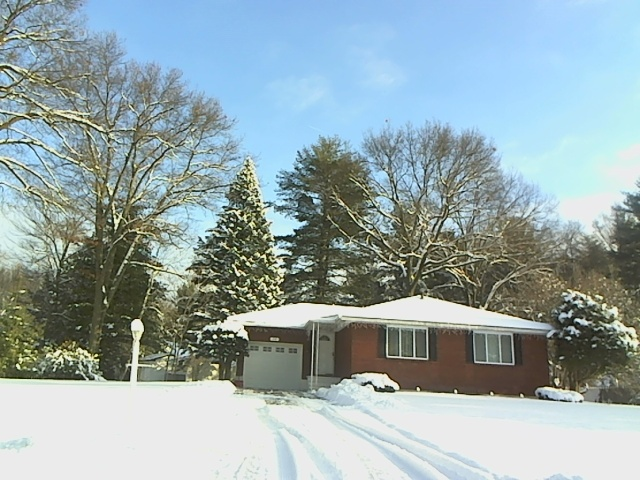Unploughed: (232, 382, 397, 474)
